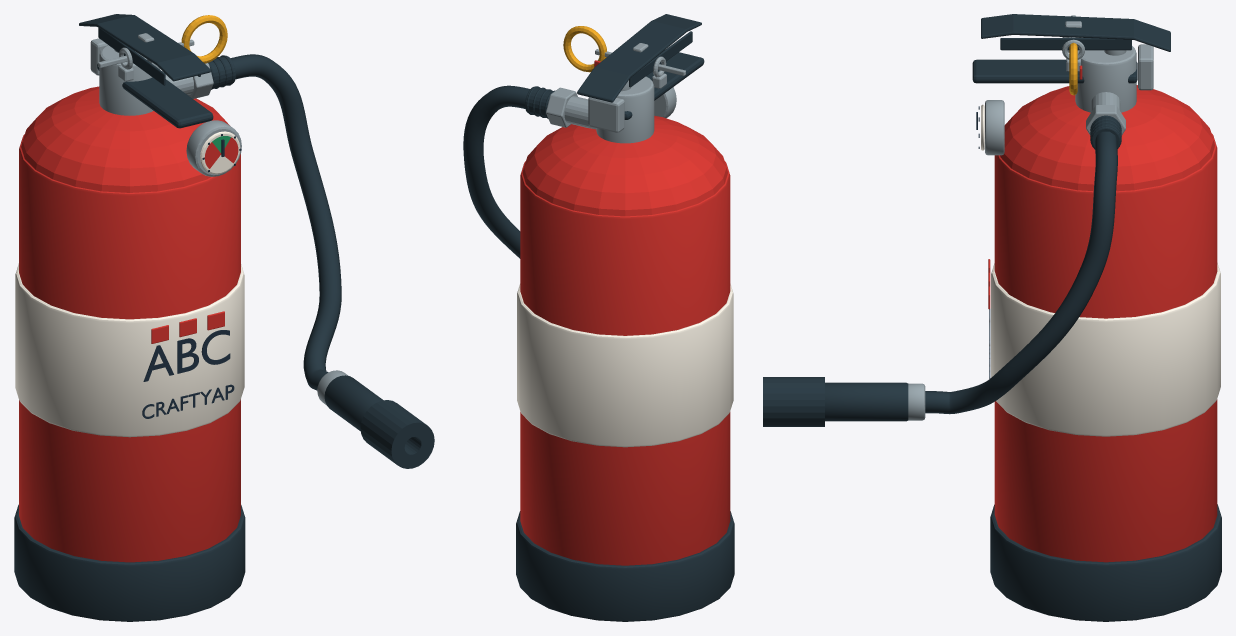
The model's file is extinguisher.fbx.
The picture shows the model from 3 angles, left to right: view 1: azimuth 30°, elevation 25°; view 2: azimuth 150°, elevation 25°; view 3: azimuth 270°, elevation 25°; orthographic projection. The views are drawn at different scales.
Parts seen in each view (by area): view 1: Tank, Label band, Protective base, Tank shoulder, Flexible hose, Hollow nozzle, Formed upper operating lever, Fixed carry grip, Valve, Nozzle grip, Label ABC, Pressure gauge (+4 smaller); view 2: Tank, Label band, Tank shoulder, Protective base, Flexible hose, Formed upper operating lever, Valve, Handle rear support, Fixed carry grip, Side pull ring, Threaded union nut, Lever folded edge (+3 smaller); view 3: Tank, Label band, Tank shoulder, Protective base, Flexible hose, Formed upper operating lever, Nozzle grip, Hollow nozzle, Valve, Fixed carry grip, Lever folded edge.001, Pressure gauge (+2 smaller).
Part boxes in pixels (<box>): Tank: <box>19,134,240,562</box>; Label band: <box>15,263,244,437</box>; Protective base: <box>14,504,245,621</box>; Tank shoulder: <box>21,86,229,192</box>; Flexible hose: <box>230,54,341,390</box>; Hollow nozzle: <box>360,400,434,468</box>; Formed upper operating lever: <box>79,14,210,81</box>; Fixed carry grip: <box>97,64,213,128</box>; Valve: <box>99,45,160,115</box>; Nozzle grip: <box>324,375,383,431</box>; Label ABC: <box>143,330,230,381</box>; Pressure gauge: <box>186,120,241,176</box>; Tank: <box>520,161,730,565</box>; Label band: <box>517,284,733,447</box>; Tank shoulder: <box>522,115,727,216</box>; Protective base: <box>516,511,734,621</box>; Flexible hose: <box>463,85,529,258</box>; Formed upper operating lever: <box>577,14,701,102</box>; Valve: <box>596,76,654,143</box>; Handle rear support: <box>588,97,624,132</box>; Fixed carry grip: <box>624,52,704,119</box>; Side pull ring: <box>563,26,606,72</box>; Threaded union nut: <box>546,87,577,127</box>; Lever folded edge: <box>629,31,692,87</box>; Tank: <box>994,133,1217,562</box>; Label band: <box>991,263,1220,436</box>; Tank shoulder: <box>1000,85,1214,191</box>; Protective base: <box>990,504,1221,621</box>; Flexible hose: <box>925,131,1117,414</box>; Formed upper operating lever: <box>981,14,1170,51</box>; Nozzle grip: <box>825,382,908,421</box>; Hollow nozzle: <box>763,377,824,426</box>; Valve: <box>1075,46,1136,112</box>; Fixed carry grip: <box>972,59,1137,83</box>; Lever folded edge.001: <box>1000,38,1131,50</box>; Pressure gauge: <box>985,100,1004,155</box>.
Bounding box in the file's own units: 27.78 × 53.08 × 39.6.
